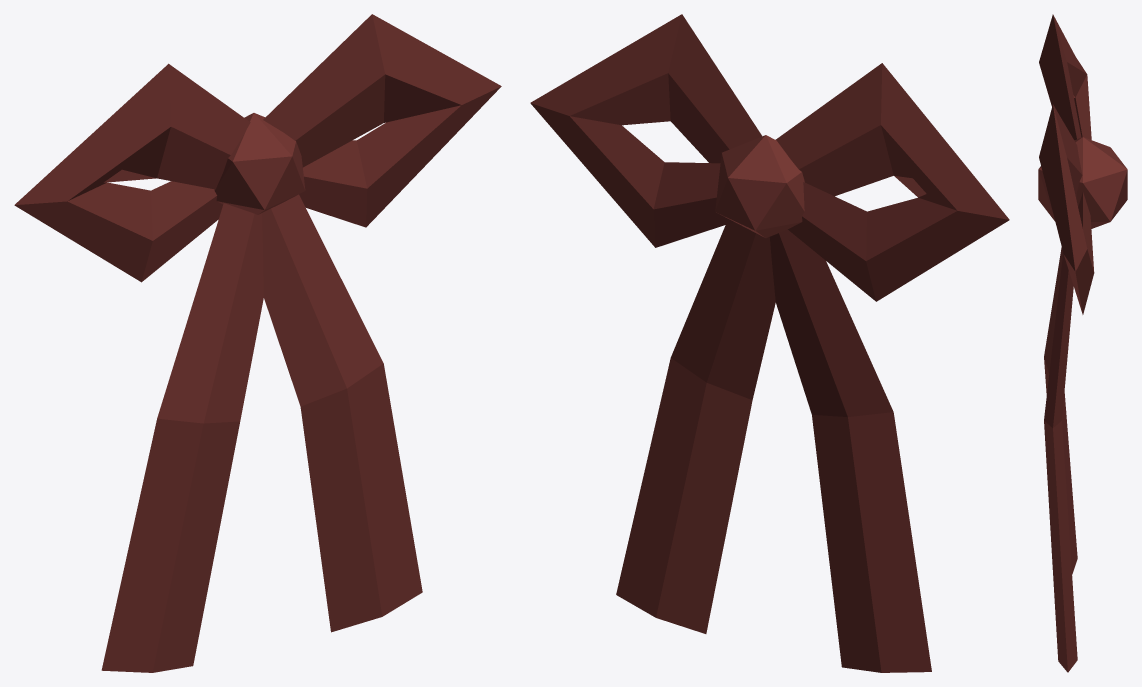
Rendered from ribbon.glb.
3 renders of one model, left to right at view 1: azimuth 30°, elevation 25°; view 2: azimuth 150°, elevation 25°; view 3: azimuth 270°, elevation 25°, orthographic. The views are drawn at different scales.
Visible parts, largest first — view 1: ribbon; view 2: ribbon; view 3: ribbon.
Part boxes in pixels (bbox=[...]): ribbon: bbox=[14, 14, 501, 672]; ribbon: bbox=[530, 14, 1009, 672]; ribbon: bbox=[1038, 14, 1127, 672].
Size of the model in its own units: 0.136 by 0.1643 by 0.0238.
